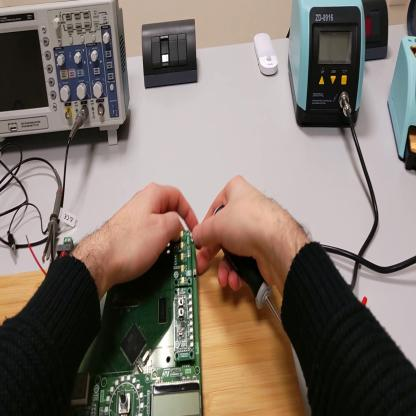hand: (195, 178, 287, 298), (104, 182, 197, 288)
low voltage board: (26, 232, 203, 416)
oscilloscope: (1, 2, 131, 148)
oscilloscope probe tip: (41, 170, 66, 264)
pliers: (362, 295, 370, 309)
screwdriver-: (209, 211, 285, 326)
socket: (365, 1, 390, 65), (407, 2, 416, 37)
welder base: (390, 25, 416, 170)
welder station: (290, 2, 366, 134)
working area: (2, 263, 308, 415)
